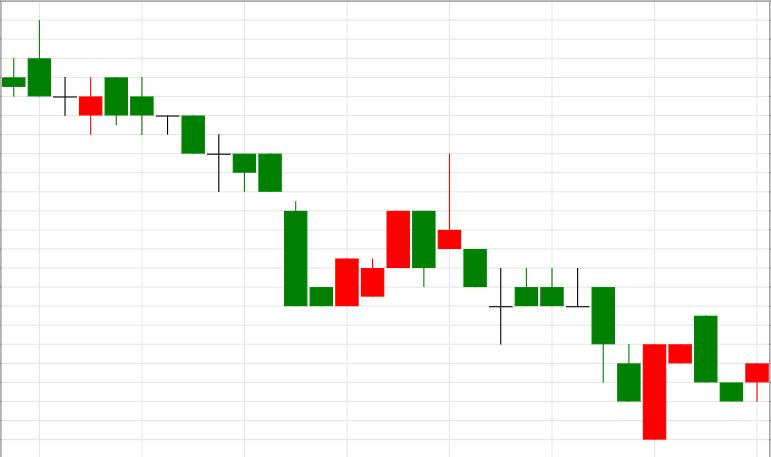bullish_engulfing_rise: (514, 268, 666, 440)
